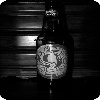beer: (36, 1, 74, 96)
